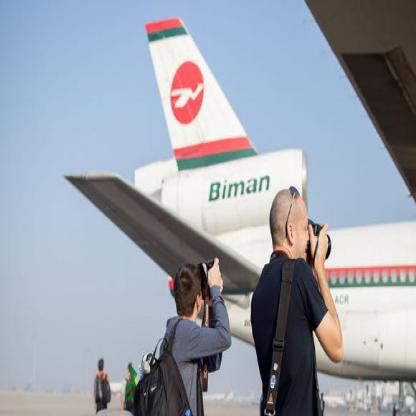CIV_Plane: (57, 9, 413, 376)
